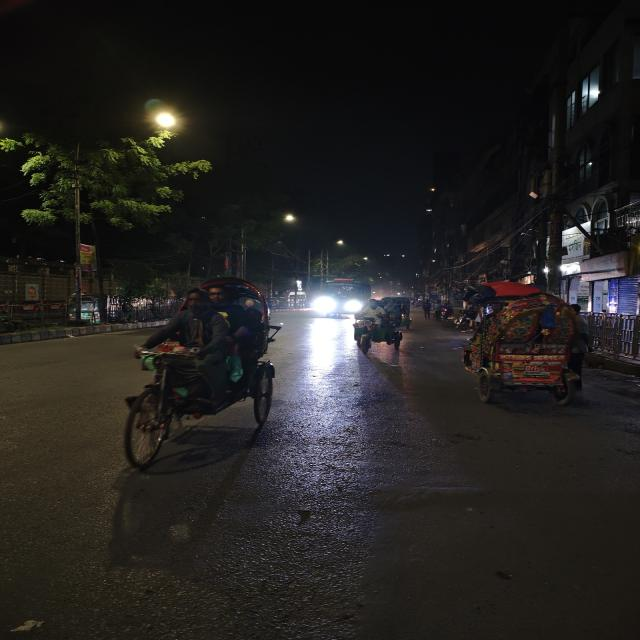bus: (301, 270, 371, 318)
pedestrian: (432, 296, 446, 325), (419, 297, 432, 322)
rickshaw: (79, 258, 297, 482), (446, 292, 586, 408), (339, 298, 422, 362)
